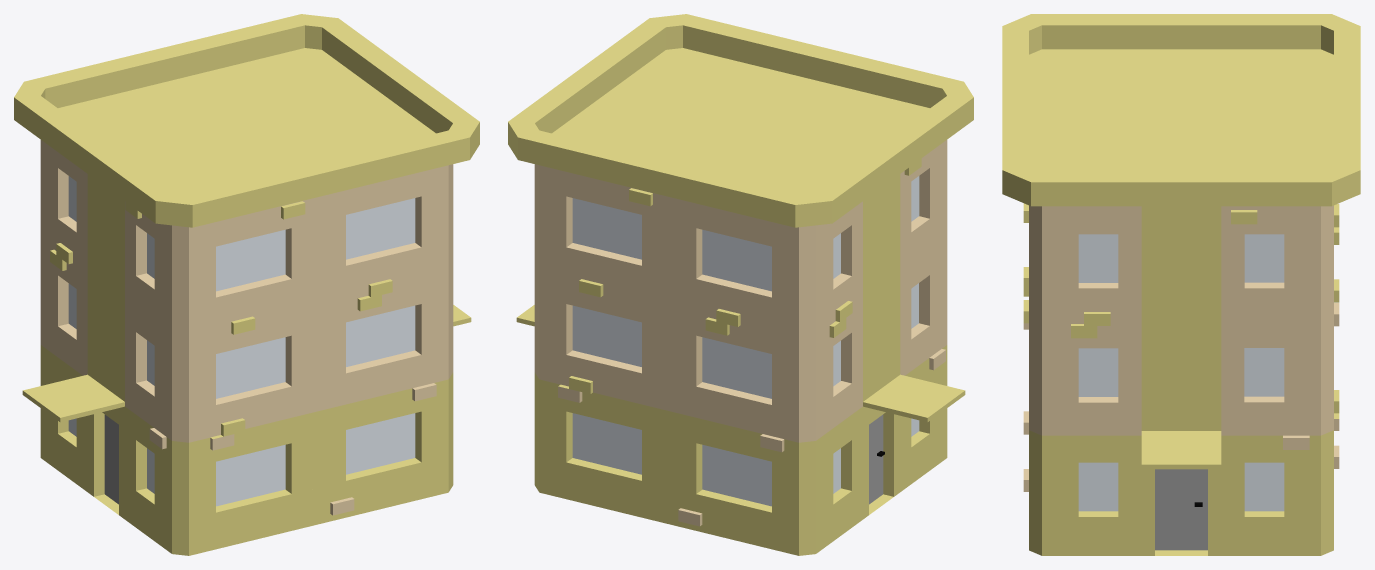
Rendered from Edificio 7.fbx.
The picture shows the model from 3 angles, left to right: view 1: azimuth 30°, elevation 25°; view 2: azimuth 150°, elevation 25°; view 3: azimuth 270°, elevation 25°; orthographic projection. The views are drawn at different scales.
Parts seen in each view (by area): view 1: Pared 2 [4312], [4339], Pared 1 [4295]; view 2: Pared 2 [4306], [4339], Pared 1 [4295]; view 3: Pared 1 [4292], [4339], Pared 2 [4306], Pared 2 [4312].
Part boxes in pixels (bbox=[...]): Pared 2 [4312]: bbox=[189, 165, 448, 555]; [4339]: bbox=[14, 14, 479, 555]; Pared 1 [4295]: bbox=[22, 140, 171, 553]; Pared 2 [4306]: bbox=[539, 165, 798, 555]; [4339]: bbox=[508, 14, 973, 555]; Pared 1 [4295]: bbox=[816, 140, 965, 553]; Pared 1 [4292]: bbox=[1042, 206, 1320, 555]; [4339]: bbox=[1002, 14, 1360, 555]; Pared 2 [4306]: bbox=[1334, 204, 1339, 468]; Pared 2 [4312]: bbox=[1023, 203, 1028, 491].
Size of the model in its own units: 748 by 531 by 630.
